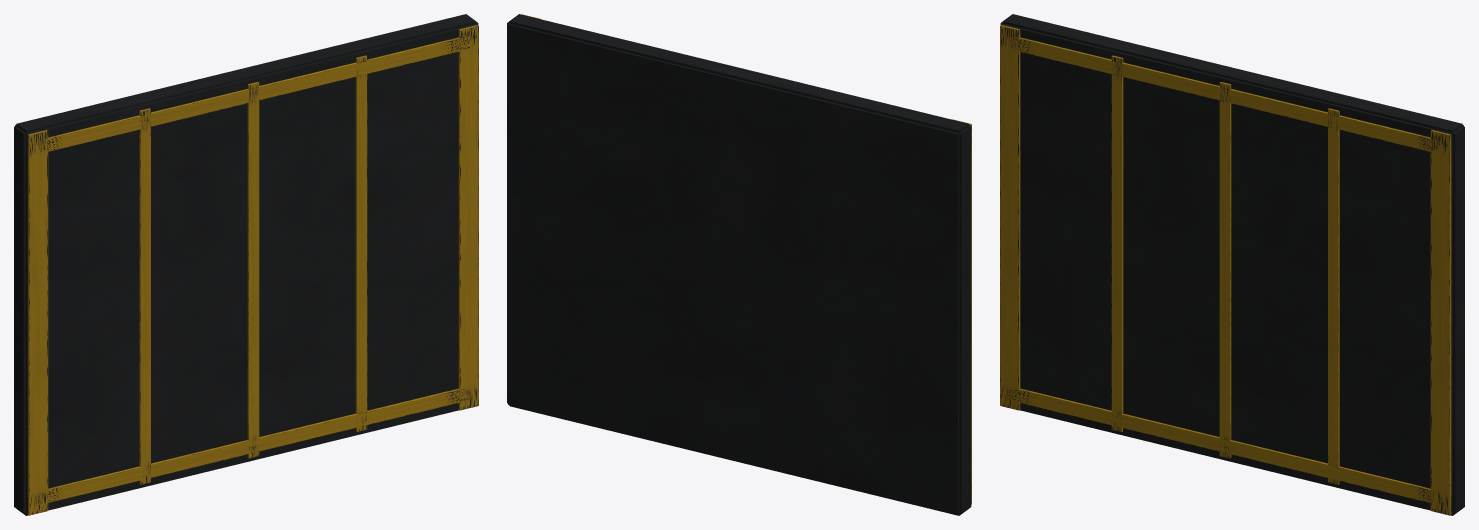
Rendered from RailPortalGate.fbx.
3 views of the same model, side by side, from view 1: azimuth 30°, elevation 25°; view 2: azimuth 150°, elevation 25°; view 3: azimuth 330°, elevation 25° (orthographic).
Visible parts, largest first — view 1: RailPortalGate.001; view 2: RailPortalGate.001; view 3: RailPortalGate.001.
Part boxes in pixels (<box>): RailPortalGate.001: <box>14,14,478,515</box>; RailPortalGate.001: <box>507,14,971,515</box>; RailPortalGate.001: <box>1000,14,1464,515</box>.
Bounding box in the file's own units: 4.2 × 3.4 × 0.225.
